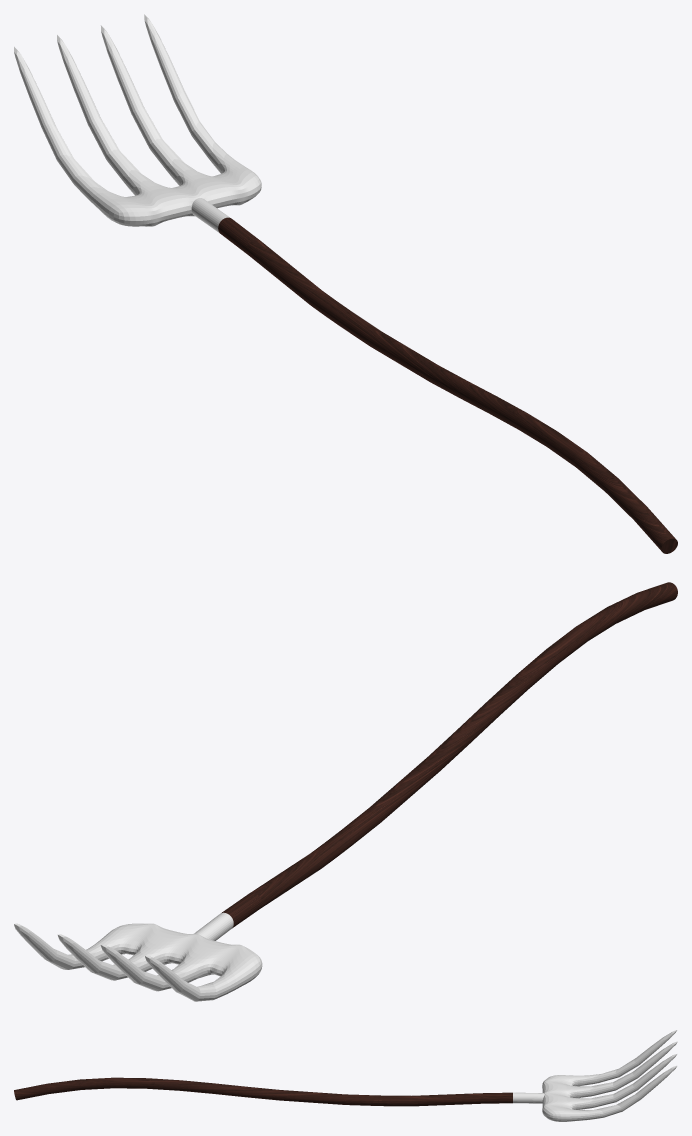
Rendered from pitti07.fbx.
3 renders of one model, top to bottom at view 1: azimuth 30°, elevation 25°; view 2: azimuth 150°, elevation 25°; view 3: azimuth 270°, elevation 25°, orthographic. The views are drawn at different scales.
Parts seen in each view (by area): view 1: Cube; view 2: Cube; view 3: Cube.
Boxes of the visible parts, left/top/right/bottom form: Cube: left=14, top=14, right=677, bottom=553; Cube: left=14, top=582, right=677, bottom=1001; Cube: left=14, top=1030, right=677, bottom=1121.
Size of the model in its own units: 15.62 by 10.55 by 109.
2 materials, 1 textured.
